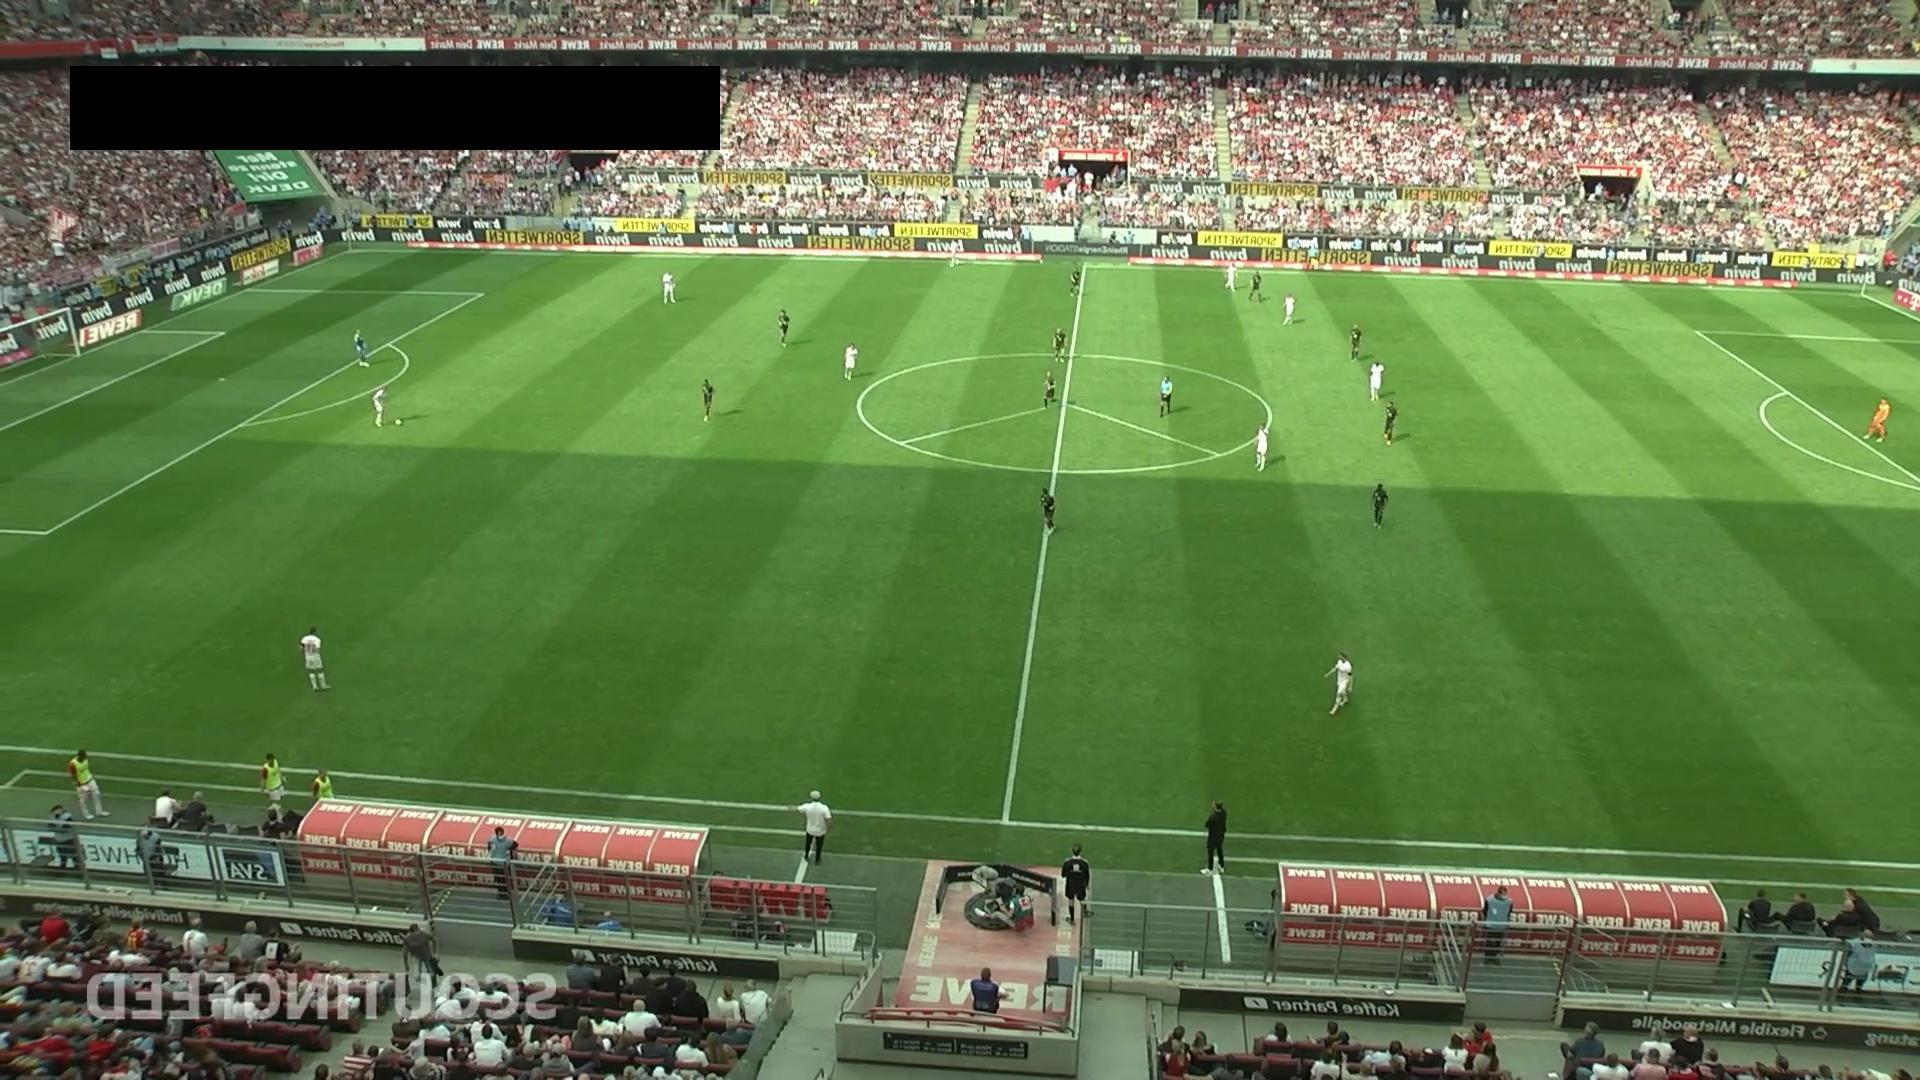ball: (394, 417, 403, 428)
goalkeeper: (1863, 397, 1891, 443), (352, 327, 370, 368)
player: (300, 625, 331, 691), (1324, 651, 1354, 715), (1039, 487, 1060, 536), (1371, 482, 1389, 529), (1254, 423, 1270, 471), (1382, 400, 1398, 446), (1043, 370, 1061, 410), (372, 385, 389, 427), (1368, 361, 1385, 401), (701, 378, 715, 422), (843, 343, 859, 380), (776, 308, 791, 347), (1281, 293, 1297, 326), (1053, 326, 1066, 365), (1068, 264, 1082, 299), (662, 270, 676, 304), (1349, 323, 1362, 359), (1248, 271, 1263, 302), (1224, 262, 1238, 291), (948, 238, 961, 268)
referee: (1159, 373, 1174, 417), (1304, 242, 1319, 273)
